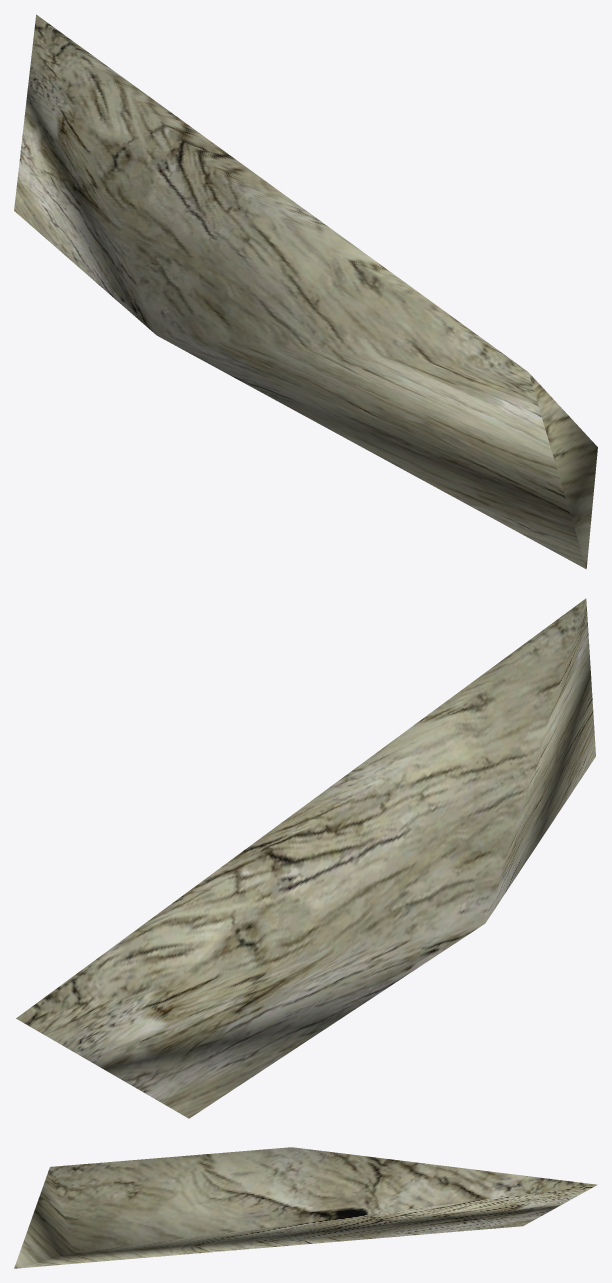
Rendered from shor_driftwood_massassi_sm_a1_l2.fbx.
The picture shows the model from 3 angles, top to bottom: view 1: azimuth 30°, elevation 25°; view 2: azimuth 150°, elevation 25°; view 3: azimuth 270°, elevation 25°; orthographic projection. The views are drawn at different scales.
Visible parts, largest first — view 1: mesh_node; view 2: mesh_node; view 3: mesh_node.
Part boxes in pixels (left/top/right/bottom): mesh_node: left=14, top=14, right=597, bottom=569; mesh_node: left=16, top=598, right=595, bottom=1118; mesh_node: left=14, top=1147, right=597, bottom=1268.
Size of the model in its own units: 0.5289 by 0.4226 by 2.17.
